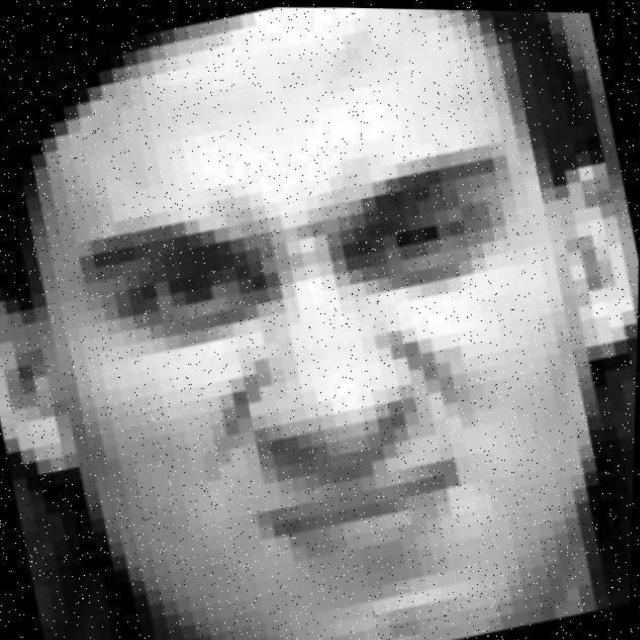Angry: (1, 21, 640, 640)
